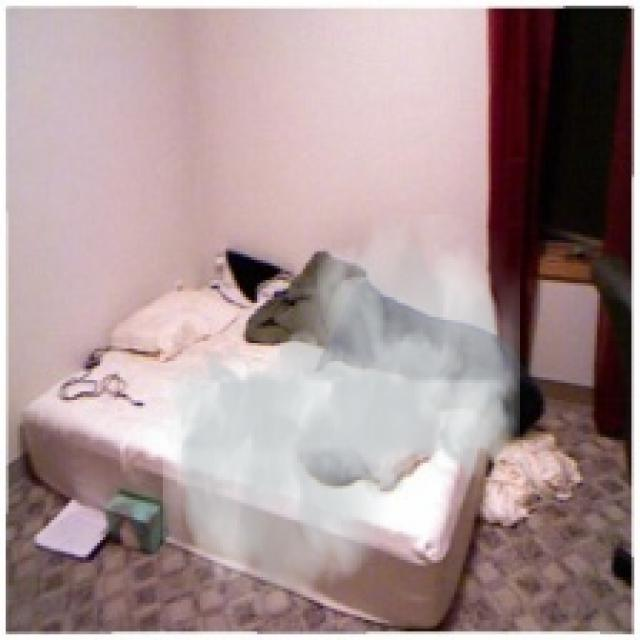smoke: (163, 215, 520, 614)
